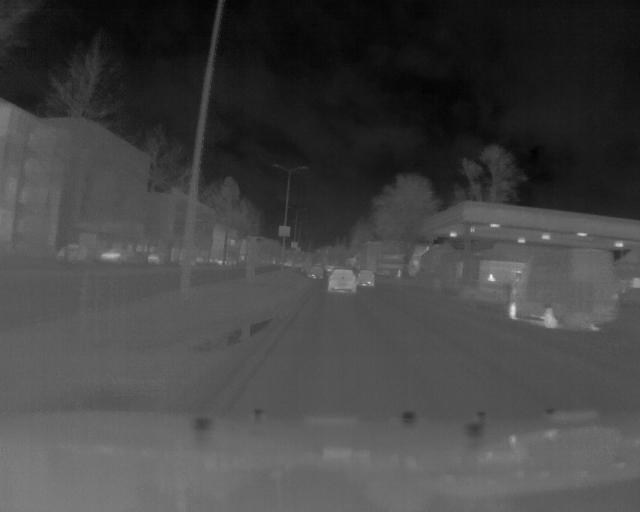car: (508, 245, 619, 333), (325, 267, 359, 297), (357, 267, 376, 286)
